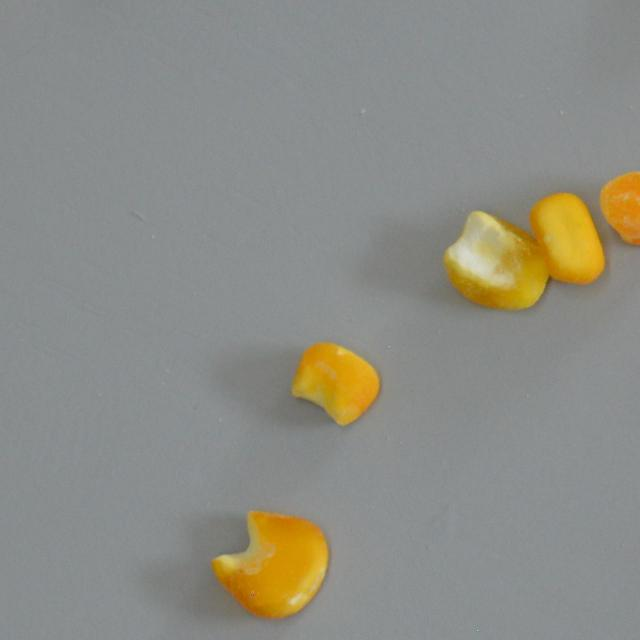estandar: (529, 192, 604, 284)
no_canjicado: (210, 508, 330, 620), (444, 210, 548, 310), (288, 340, 380, 426)
pelicula: (598, 170, 640, 246)
